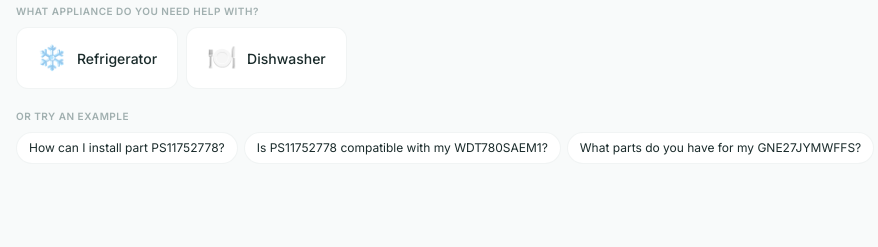
Test: back button returns to appliance selection
Click the text "Refrigerator". click: (117, 58)
box: 77,48 -> 157,68
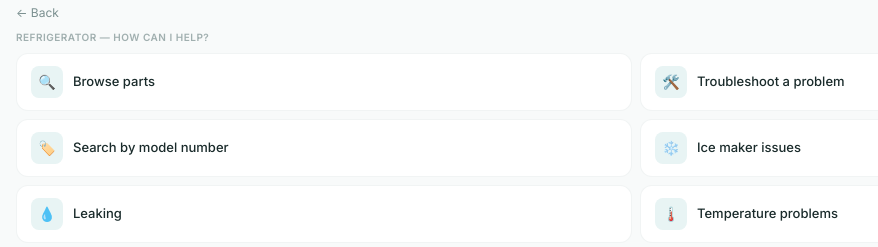
Check: the button "Dishwasher" is gone
Click the button "← Back". click: (37, 13)
box: 16,4 -> 59,22
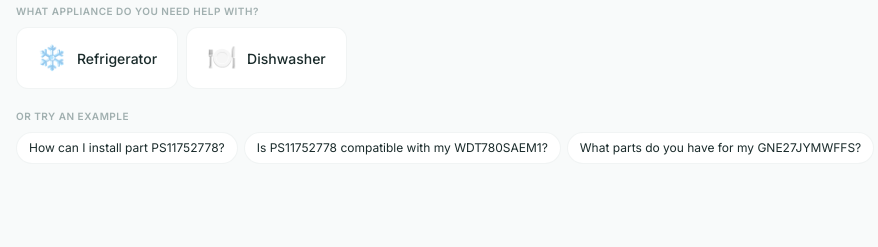
Check: the text "Dishwasher" is shown, box 247,48 -> 326,68
